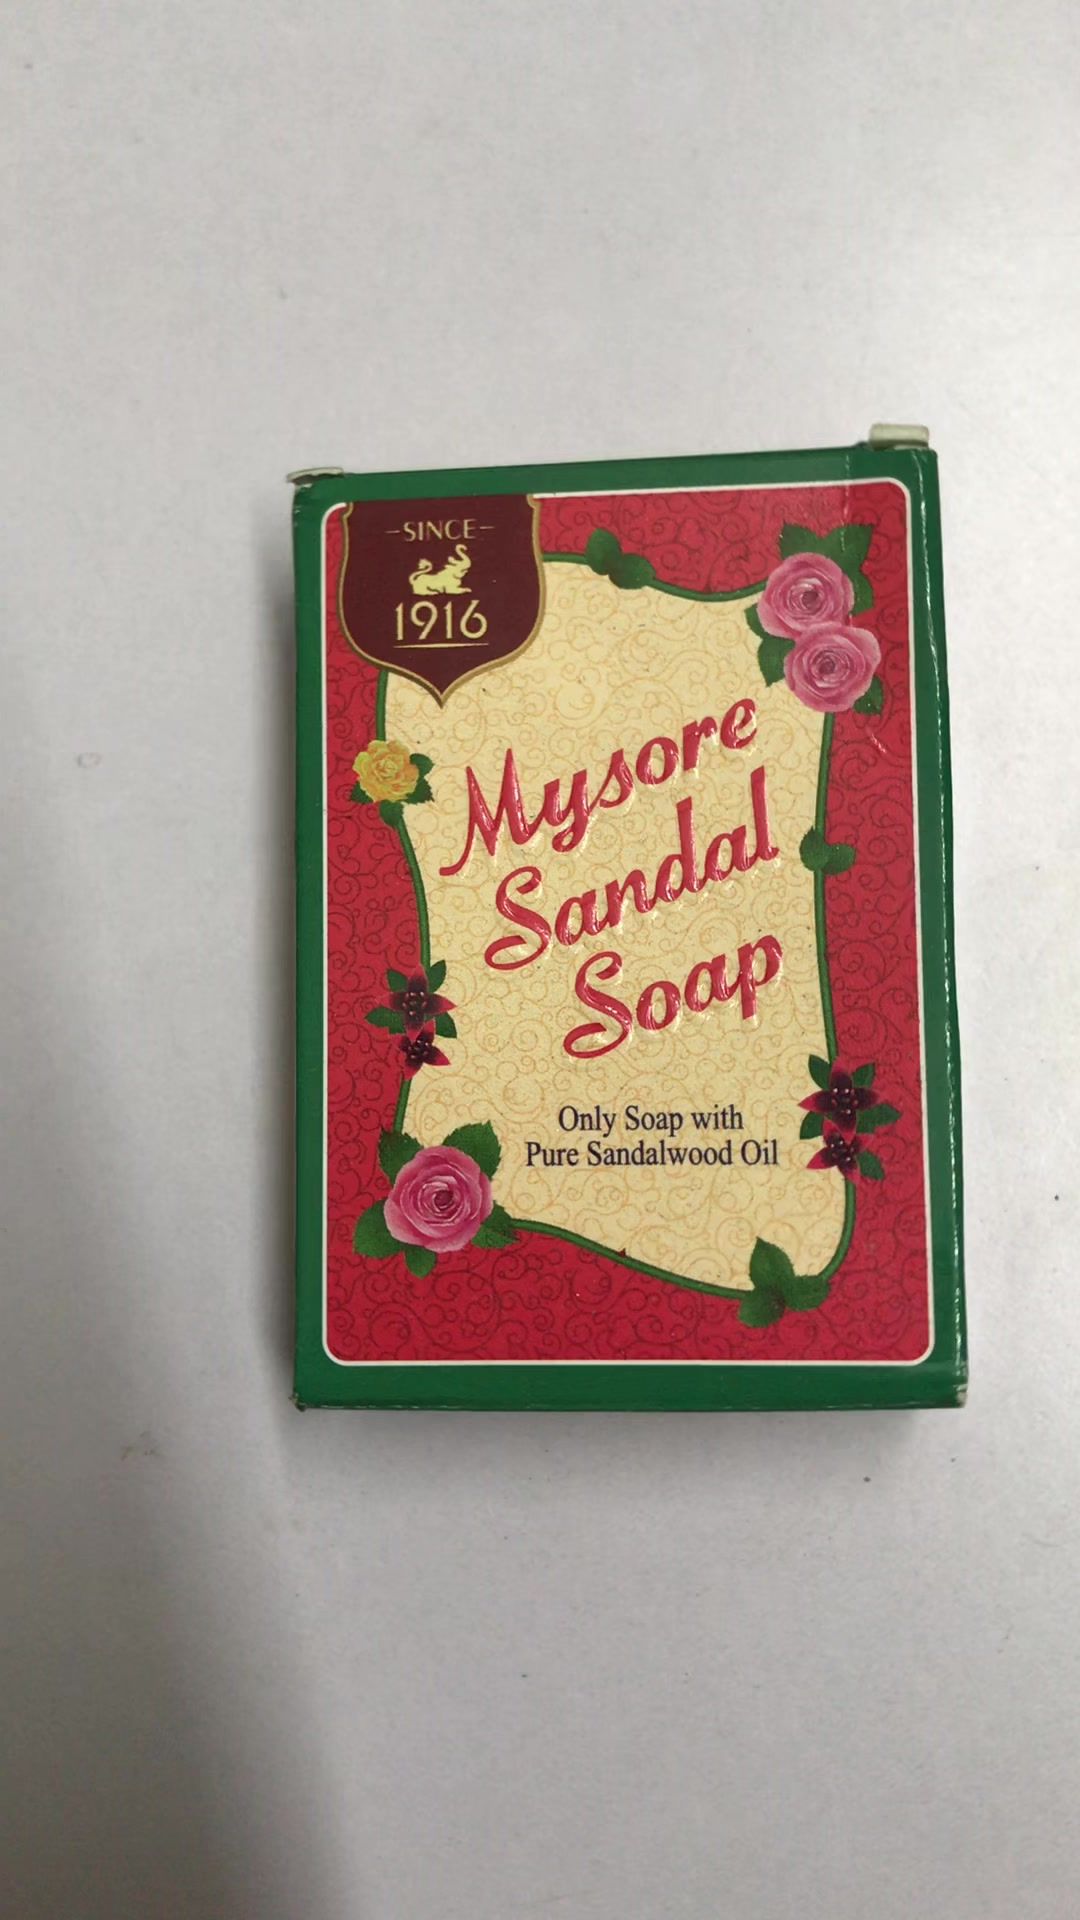mysore sandal soap: (284, 454, 959, 1400)
